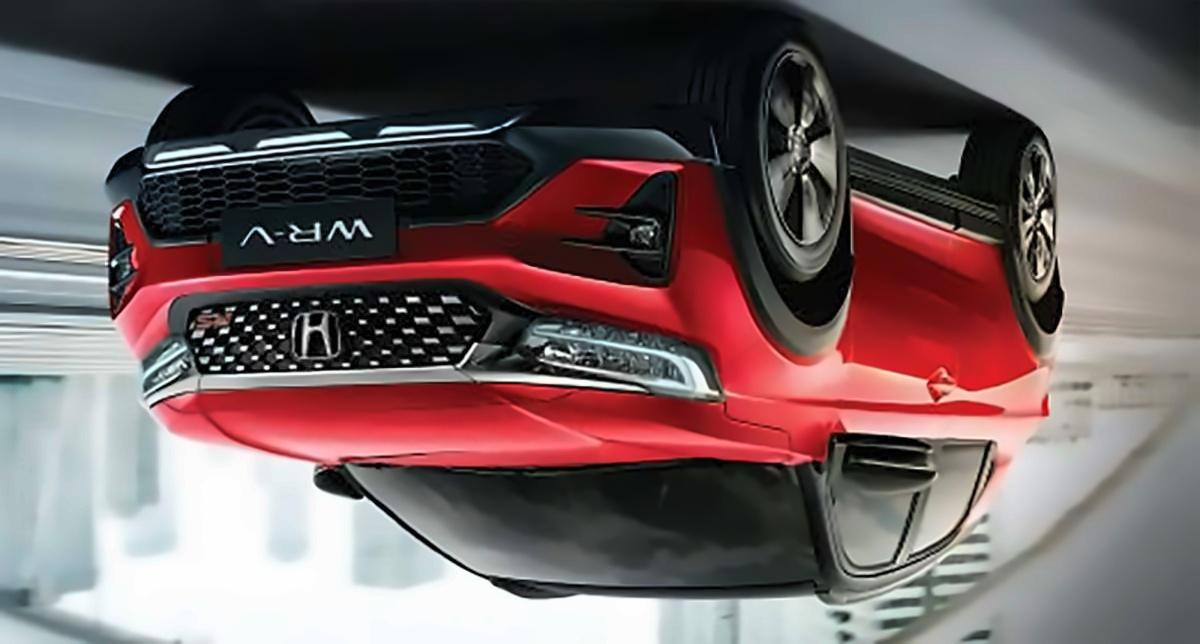Car hood: (147, 377, 796, 470)
Driver-s door - -F-R-: (832, 177, 959, 589)
Fender - -F-R-: (720, 165, 854, 467)
Fender - -R-R-: (977, 321, 1056, 455)
Front bumper: (95, 92, 745, 342)
Headlight - -L-: (130, 334, 208, 413)
Headlight - -R-: (514, 307, 737, 413)
Passenger-s door - -R-R-: (937, 226, 1029, 551)
Rear bumper: (1032, 253, 1088, 371)
Rear light - -R-: (1016, 364, 1072, 440)
Side bumper - -R-: (838, 129, 1026, 257)
Side mirror - -L-: (302, 449, 374, 517)
Side mirror - -R-: (824, 419, 963, 506)
